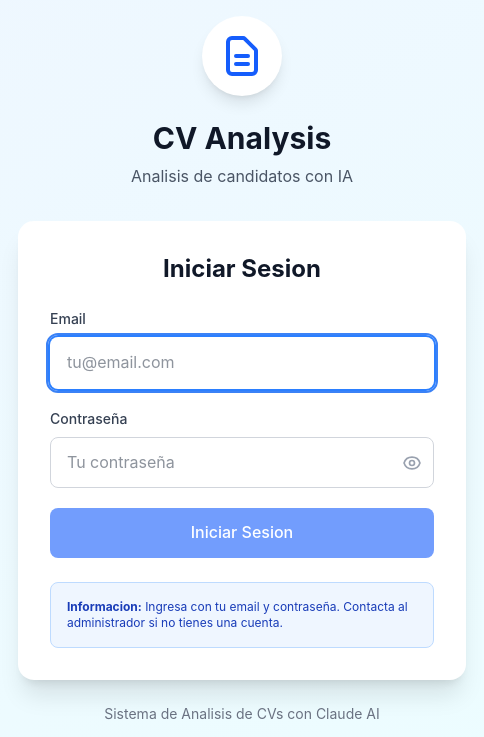
Test: LoginPage › enables submit button when fields are filled
Type "test@test.com" into the field labelled "Email".
click(242, 363); type("test@test.com")  # box [50,337,434,389]
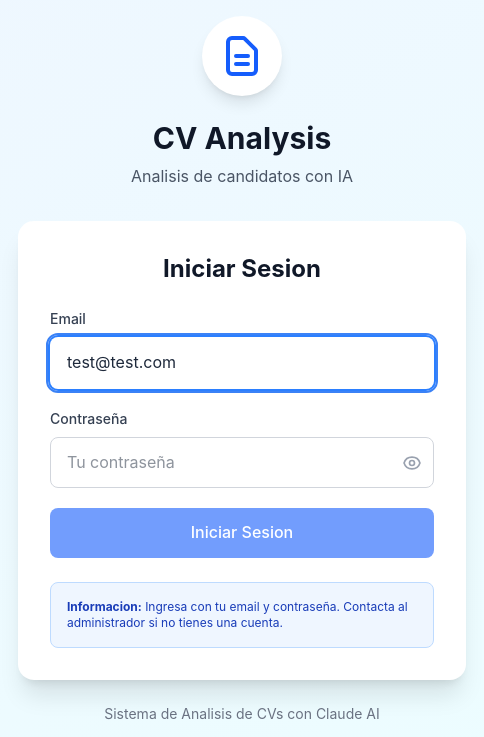
Type "password123" into the password field labelled "Contraseña".
click(242, 463); type("password123")  # box [50,437,434,488]
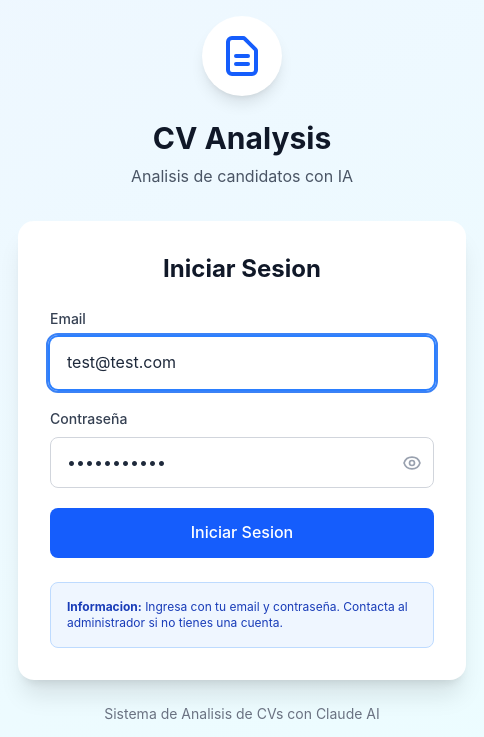
Expected: the button "Iniciar Sesion" is enabled, [50,508,434,558]
